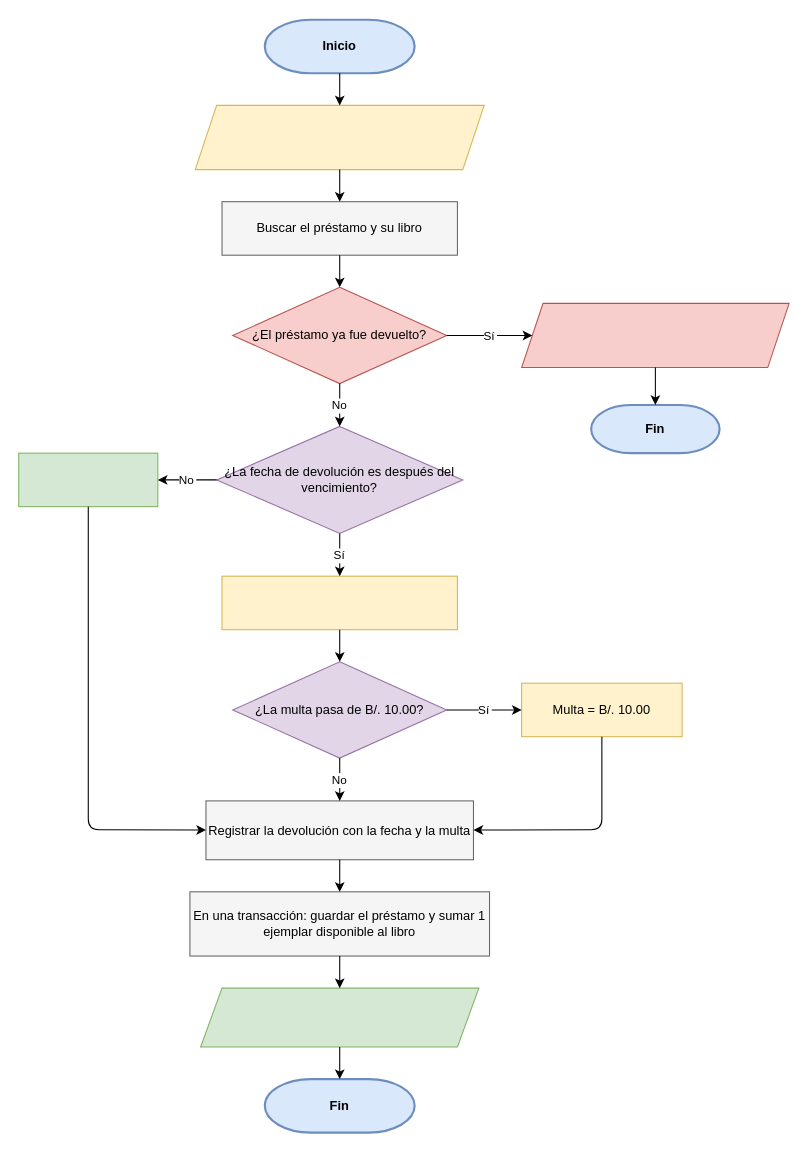
Some shapes in this 808 by 1151 pixel diagram are drawn without their labels. The centre of each missing label's shape, as x and y in pixels:
El bibliotecario selecciona el préstamo y pulsa Devolver: [339,137]
Mostrar "Libro devuelto" y la multa: [339,1017]
Mostrar error: el préstamo ya fue devuelto: [655,335]
Multa = 0: [88,479]
Multa = días de retraso × B/. 0.50: [339,602]
